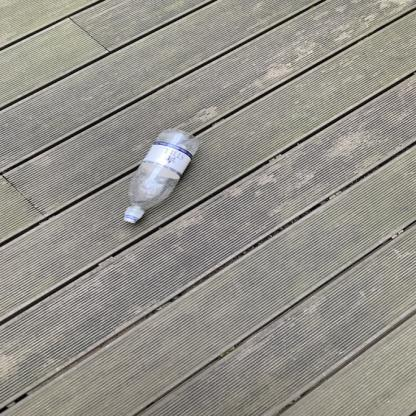trash: (117, 128, 205, 225)
